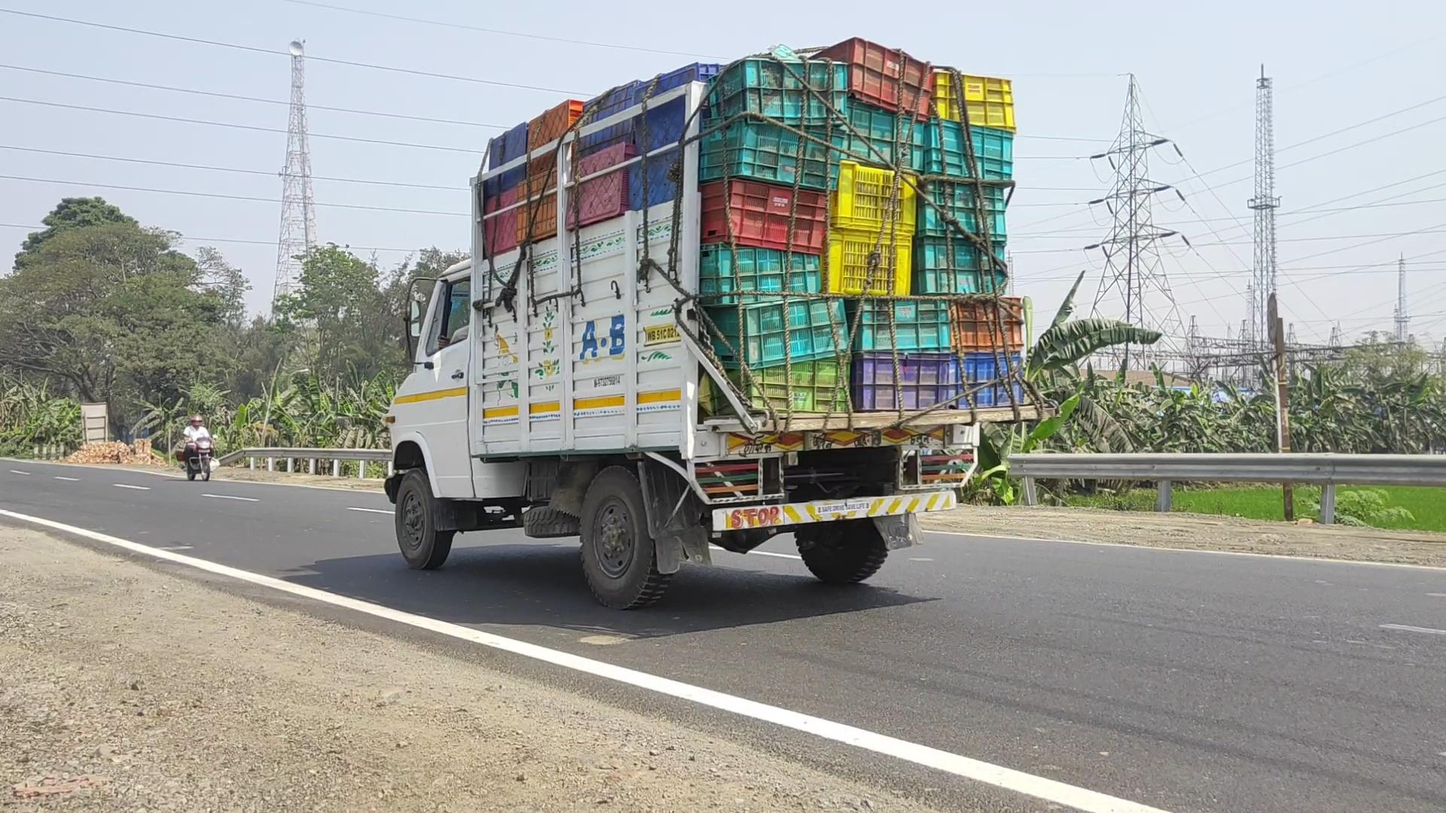bike: (176, 415, 218, 483)
truck: (383, 38, 1055, 611)
